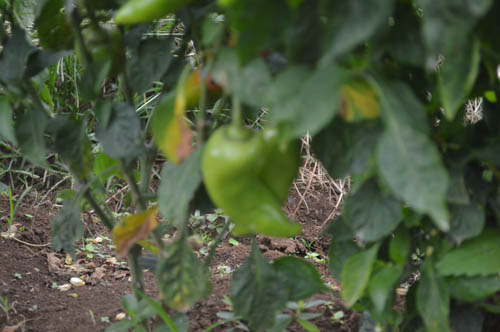ChiliPepper: (200, 132, 298, 236), (244, 136, 302, 240)
